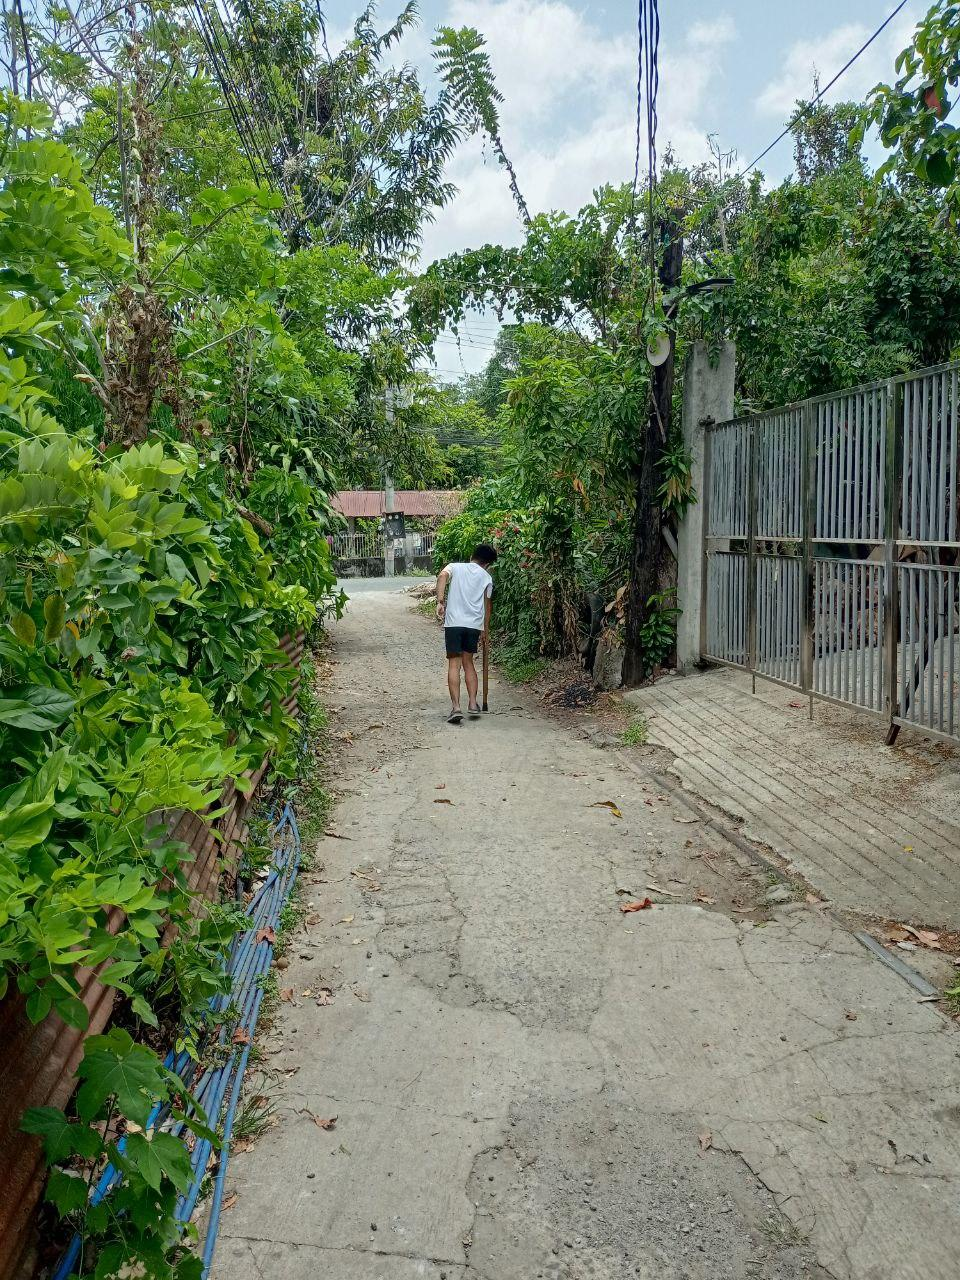crutches: (435, 545, 496, 723)
